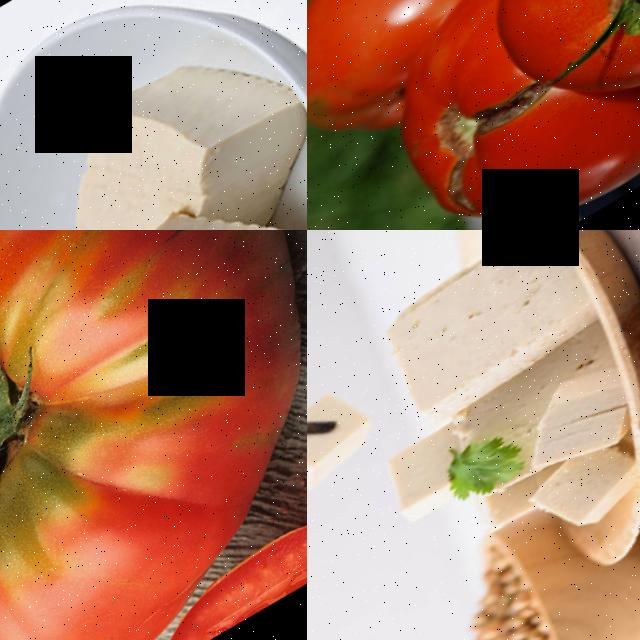tofu: (32, 13, 307, 230), (366, 230, 614, 448), (9, 153, 307, 230), (511, 364, 640, 499), (531, 436, 640, 559), (307, 384, 387, 511), (374, 436, 468, 541)
tomato: (0, 230, 307, 640), (430, 0, 640, 189)
